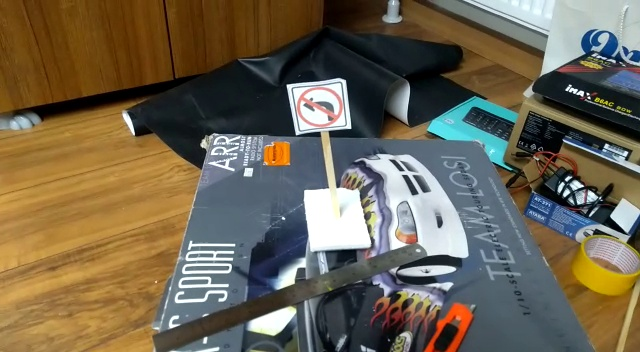sola_donulmez: (295, 79, 344, 130)
